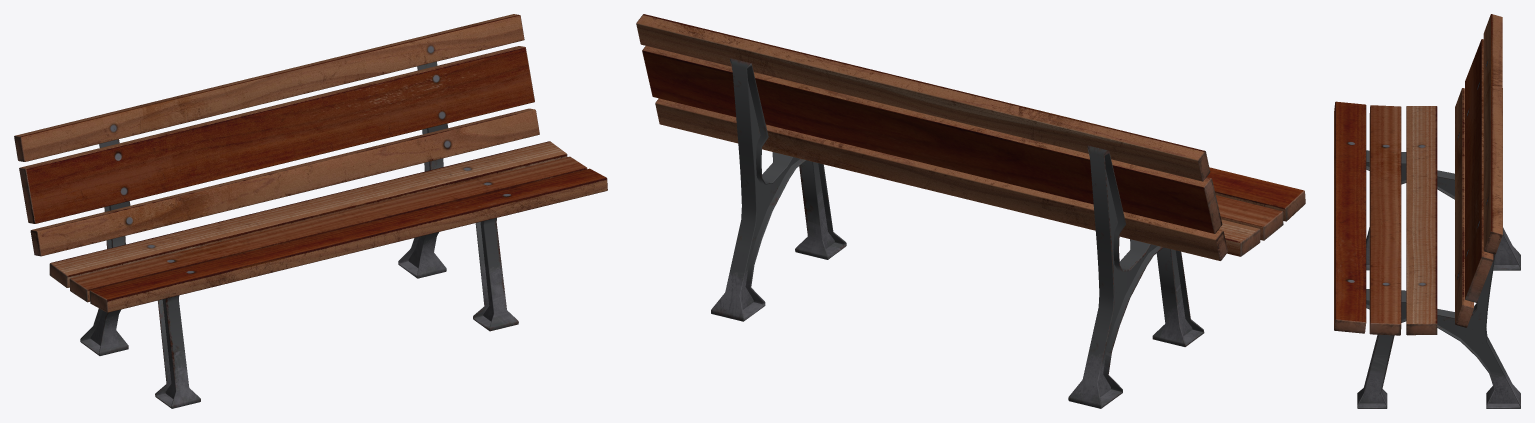
Rendered from benchfbx.fbx.
3 views of the same model, side by side, from view 1: azimuth 30°, elevation 25°; view 2: azimuth 150°, elevation 25°; view 3: azimuth 270°, elevation 25° (orthographic). The views are drawn at different scales.
Visible parts, largest first — view 1: Cube.001, Cube.003, Cube.002; view 2: Cube.001, Cube.003, Cube.002; view 3: Cube.001, Cube.003, Cube.002.
Boxes of the visible parts, x1,y1,x2,y2 form: Cube.001: [15, 14, 607, 312]; Cube.003: [80, 61, 518, 408]; Cube.002: [14, 15, 607, 312]; Cube.001: [636, 14, 1303, 260]; Cube.003: [711, 58, 1204, 408]; Cube.002: [636, 14, 1305, 260]; Cube.001: [1334, 14, 1502, 330]; Cube.003: [1357, 150, 1520, 408]; Cube.002: [1334, 101, 1502, 335].
Size of the model in its own units: 200 by 89.92 by 72.3.
3 materials, 3 textured.
